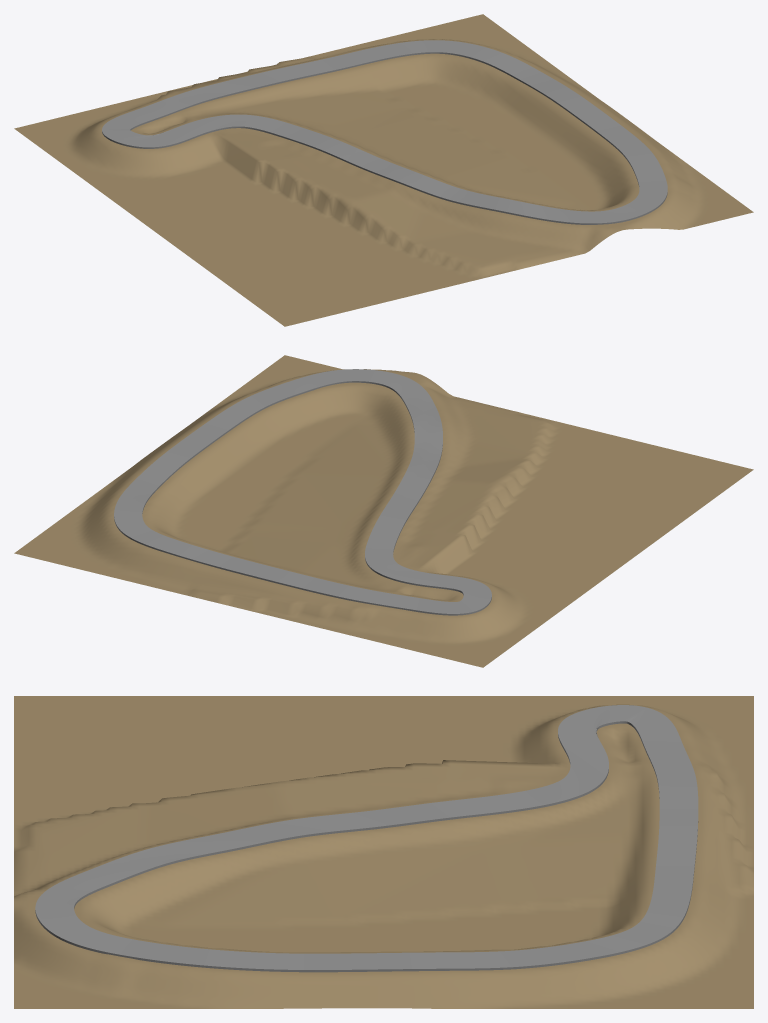
File: teste.glb
The picture shows the model from 3 angles, top to bottom: view 1: azimuth 30°, elevation 25°; view 2: azimuth 150°, elevation 25°; view 3: azimuth 270°, elevation 25°; orthographic projection. The views are drawn at different scales.
Size of the model in its own units: 153 by 5.39 by 153.
